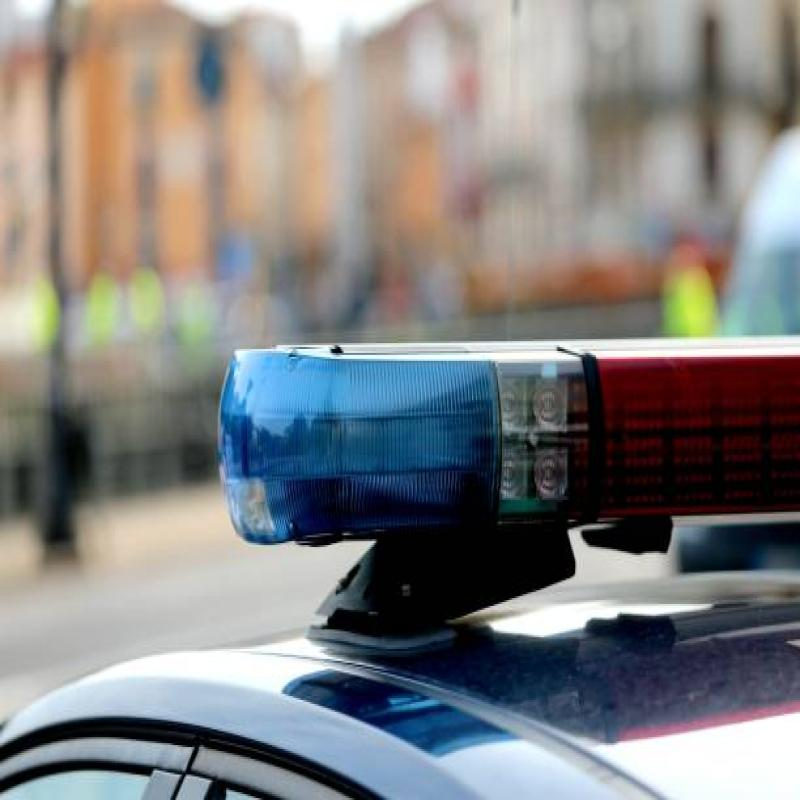AmbulanceSiren: (192, 310, 800, 637)
